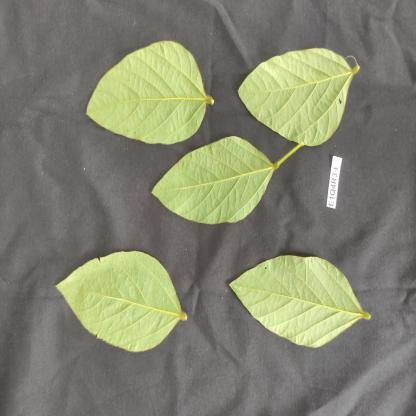label: (330, 150, 343, 214)
leaflets: (235, 252, 396, 364), (63, 36, 218, 143), (56, 240, 189, 338), (238, 42, 356, 142), (155, 140, 283, 231)
